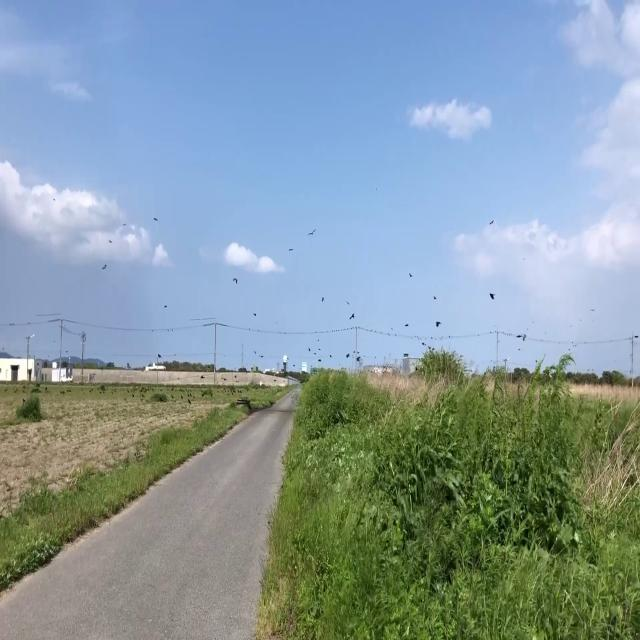bird: (489, 286, 495, 302), (288, 242, 294, 256), (154, 211, 158, 226), (350, 308, 354, 322)
